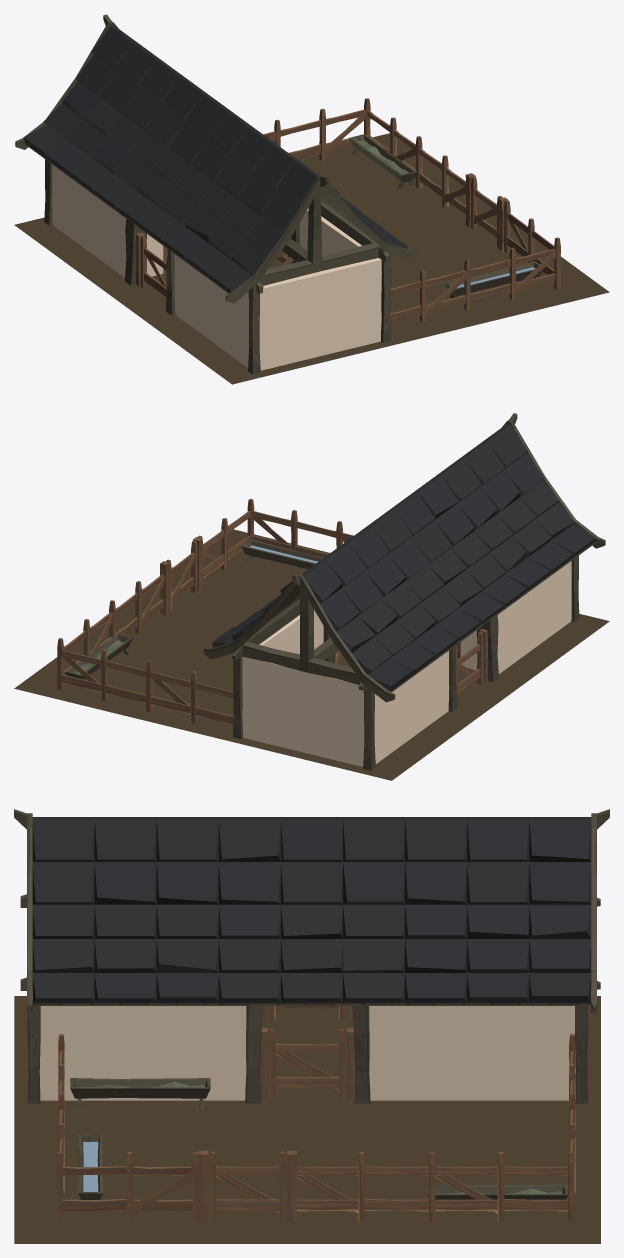
The model's file is Barn.fbx.
The picture shows the model from 3 angles, top to bottom: view 1: azimuth 30°, elevation 25°; view 2: azimuth 150°, elevation 25°; view 3: azimuth 270°, elevation 25°; orthographic projection. The views are drawn at different scales.
Parts seen in each view (by area): view 1: Barn Roof, Barn, Barn.001, Pillars, Fence Link 5, Fence Link 7, Fence Link 4, Fence Gate 3, Fence Link 3, Fence Link 2, Fence Gate 2, Lame 3 (+2 smaller); view 2: Barn Roof, Barn, Barn.001, Pillars, Fence Link 7, Fence Link 6, Fence Gate 3, Fence Link 5, Fence Link 2, Fence Link 3, Fence Gate 2, Fence Link 8 (+2 smaller); view 3: Barn Roof, Barn, Barn.001, Pillars, Fence Gate 3, Fence Link 8, Fence Link 3, Fence Link 2, Fence Gate 1, Lame 2, Lame 3, Lame 1 (+1 smaller).
Part boxes in pixels (x1,y1,x2,y2): Barn Roof: [15, 14, 416, 303]; Barn: [14, 133, 609, 384]; Barn.001: [52, 164, 381, 370]; Pillars: [44, 159, 390, 374]; Fence Link 5: [464, 247, 555, 311]; Fence Link 7: [274, 108, 365, 160]; Fence Link 4: [390, 269, 466, 322]; Fence Gate 3: [465, 173, 508, 251]; Fence Link 3: [415, 136, 466, 214]; Fence Link 2: [507, 212, 560, 289]; Fence Gate 2: [136, 232, 167, 301]; Lame 3: [349, 134, 417, 188]; Barn Roof: [203, 413, 605, 702]; Barn: [14, 529, 609, 780]; Barn.001: [242, 561, 571, 766]; Pillars: [233, 555, 579, 770]; Fence Link 7: [61, 649, 152, 712]; Fence Link 6: [151, 671, 233, 724]; Fence Gate 3: [160, 537, 202, 615]; Fence Link 5: [251, 510, 342, 557]; Fence Link 2: [203, 498, 254, 577]; Fence Link 3: [109, 574, 164, 637]; Fence Gate 2: [456, 629, 487, 698]; Fence Link 8: [57, 612, 112, 690]; Barn Roof: [14, 809, 609, 1013]; Barn: [14, 996, 600, 1243]; Barn.001: [39, 1006, 575, 1100]; Pillars: [27, 1006, 588, 1103]; Fence Gate 3: [198, 1150, 296, 1222]; Fence Link 8: [435, 1152, 574, 1221]; Fence Link 3: [296, 1152, 435, 1221]; Fence Link 2: [56, 1152, 192, 1221]; Fence Gate 1: [260, 1028, 355, 1099]; Lame 2: [70, 1078, 210, 1108]; Lame 3: [427, 1184, 567, 1214]; Lame 1: [78, 1134, 103, 1199].
Bounding box in the file's own units: 2850 × 1330 × 2893.
